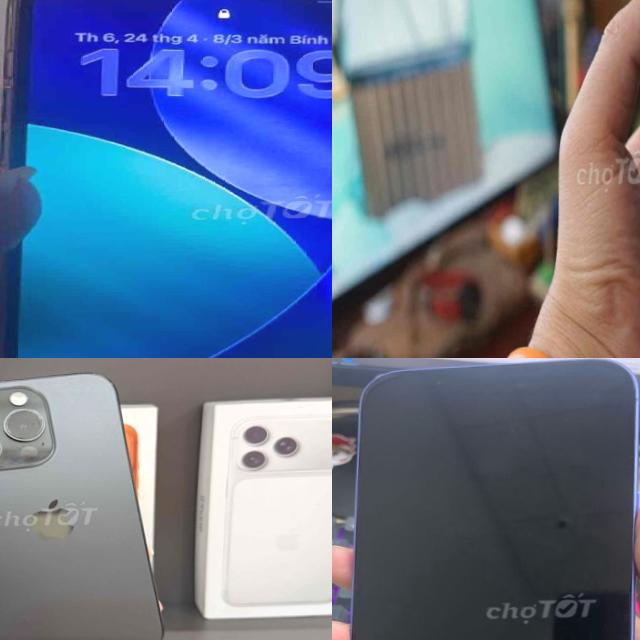scratch: (508, 372, 536, 398), (426, 378, 458, 388)
